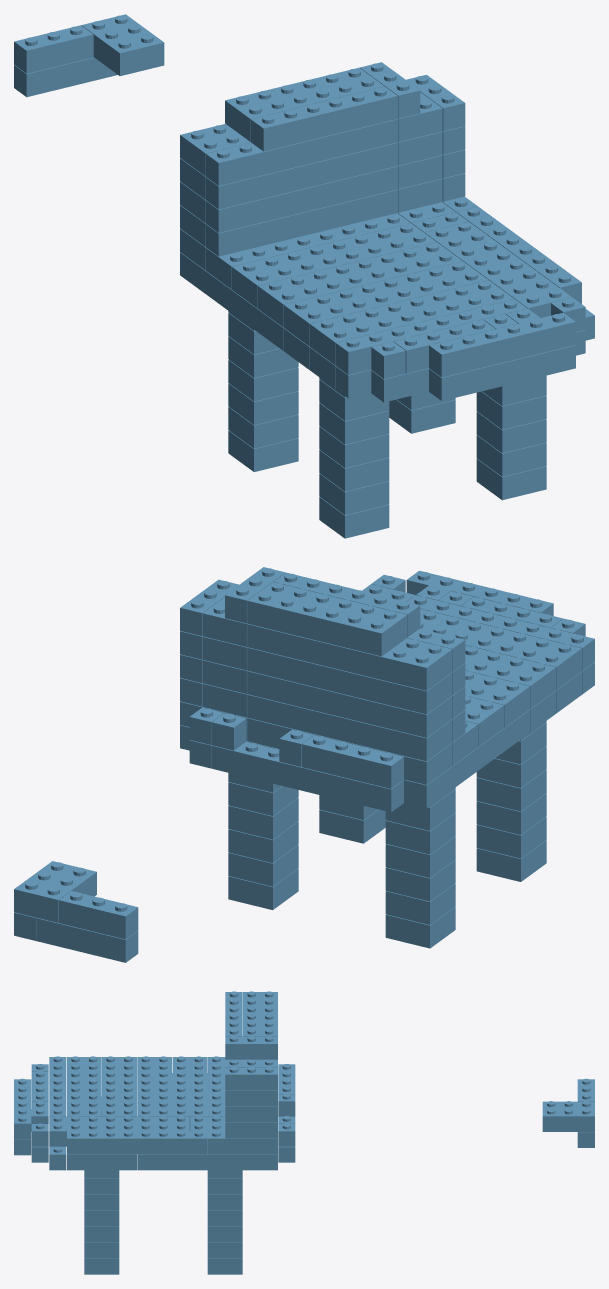
The model's file is 148_car_L3.glb.
3 renders of one model, top to bottom at view 1: azimuth 30°, elevation 25°; view 2: azimuth 150°, elevation 25°; view 3: azimuth 270°, elevation 25°, orthographic. The views are drawn at different scales.
Bounding box in the file's own units: 10.98 × 14.13 × 32.98.
